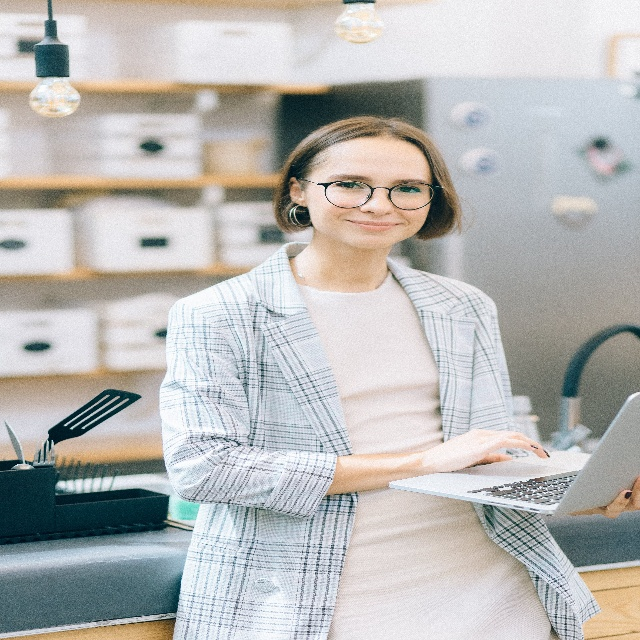Gafas: (295, 172, 444, 213)
Sin_guantes: (421, 432, 546, 468)
